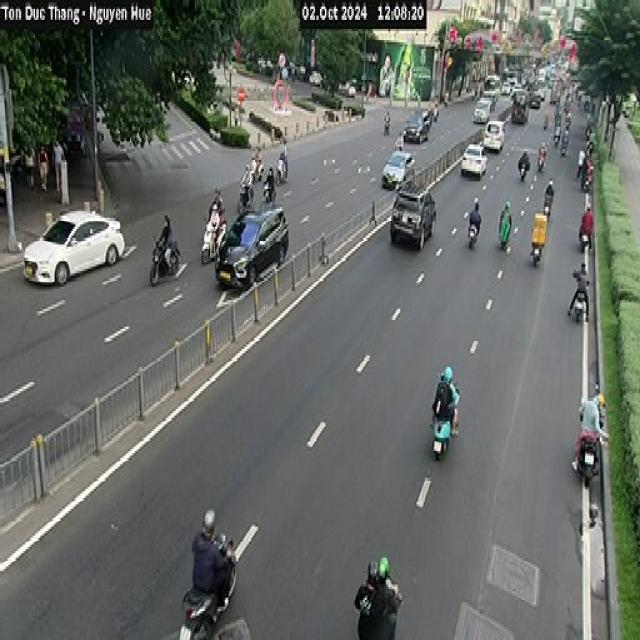car: (23, 206, 125, 286), (214, 204, 288, 289), (390, 188, 447, 248), (381, 149, 415, 189), (460, 142, 488, 176)
motorcycle: (176, 582, 224, 640), (149, 233, 180, 284), (429, 402, 455, 460), (581, 430, 601, 498), (200, 218, 226, 264), (567, 289, 588, 323), (464, 211, 478, 247)
person: (190, 507, 235, 620), (571, 391, 605, 473), (431, 364, 460, 436), (568, 260, 588, 322), (155, 213, 174, 271), (52, 138, 64, 193), (499, 200, 511, 249), (468, 200, 482, 238), (38, 145, 48, 191)
